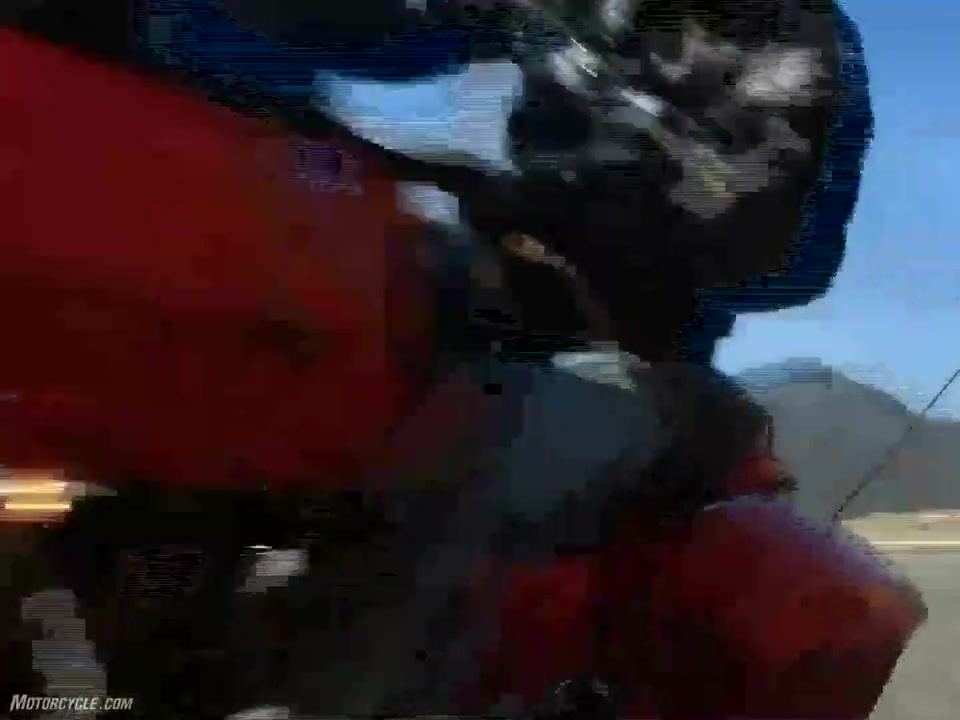motorbike: (3, 20, 932, 720)
